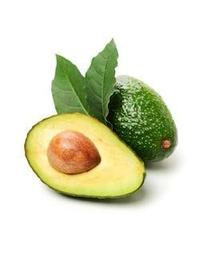avocado: (24, 112, 146, 201), (91, 74, 178, 164)
